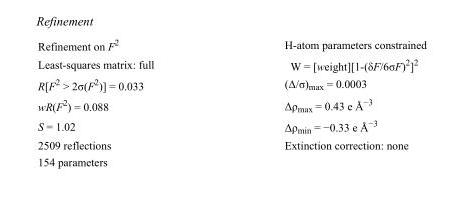table: (37, 36, 425, 167)
table column: (218, 36, 425, 167), (37, 36, 218, 167)
table row: (37, 94, 425, 115), (37, 115, 425, 136), (37, 54, 425, 74), (37, 74, 425, 94), (37, 36, 425, 54), (37, 136, 425, 153), (37, 153, 425, 167)
